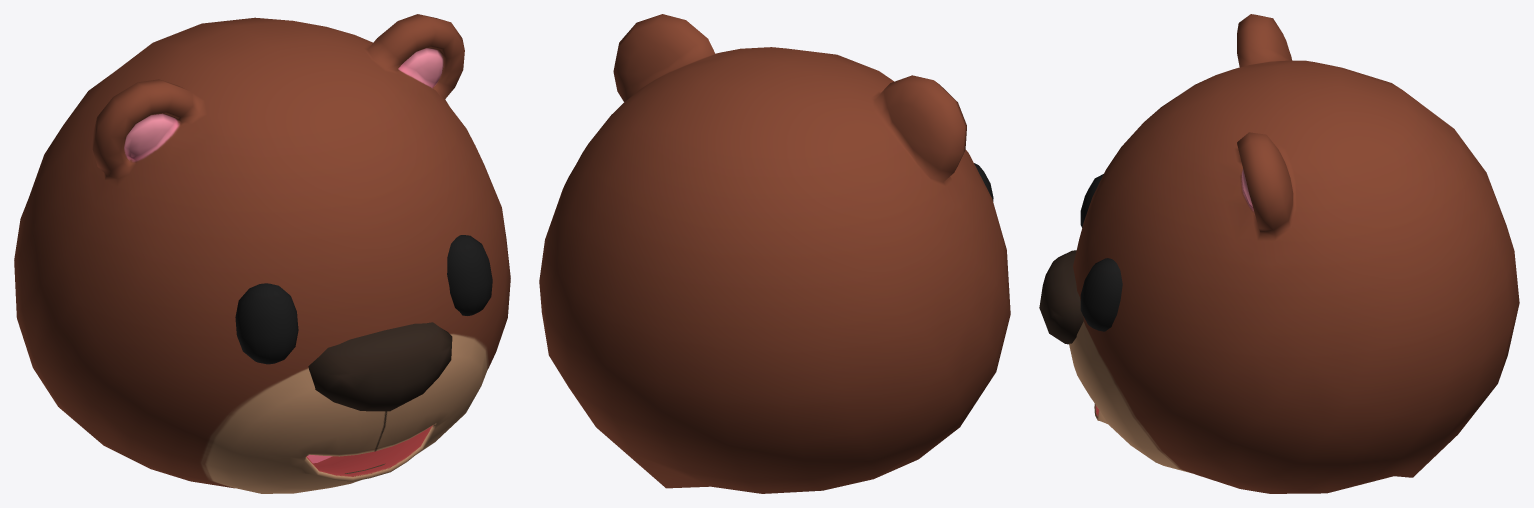
Rendered from bear.glb.
3 views of the same model, side by side, from view 1: azimuth 30°, elevation 25°; view 2: azimuth 150°, elevation 25°; view 3: azimuth 270°, elevation 25° (orthographic). The views are drawn at different scales.
Parts seen in each view (by area): view 1: BearHead, BearHead_BearHead_02_0.001; view 2: BearHead; view 3: BearHead, BearHead_BearHead_02_0.001.
Boxes of the visible parts, x1,y1,x2,y2 form: BearHead: [14, 14, 510, 493]; BearHead_BearHead_02_0.001: [447, 235, 492, 315]; BearHead: [539, 14, 1010, 493]; BearHead: [1039, 14, 1519, 493]; BearHead_BearHead_02_0.001: [1080, 258, 1122, 331].
Bounding box in the file's own units: 42.37 × 39.43 × 44.42.
4 materials, 4 textured.
